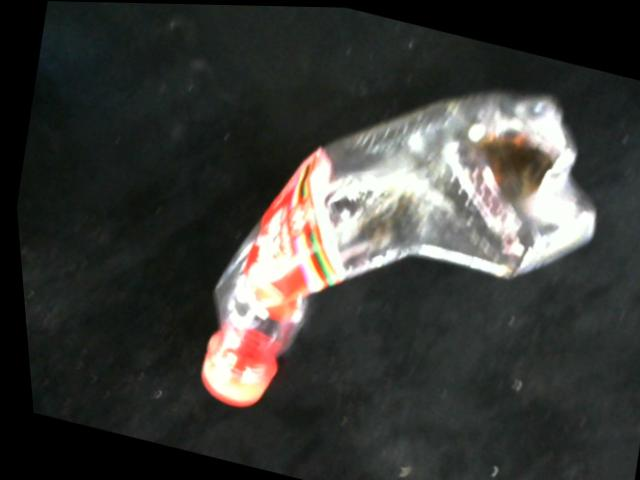bottle: (193, 85, 599, 408)
